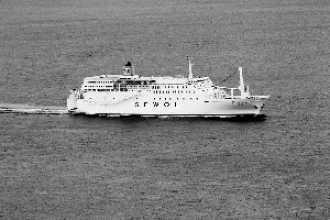youlun: (65, 62, 270, 117)
